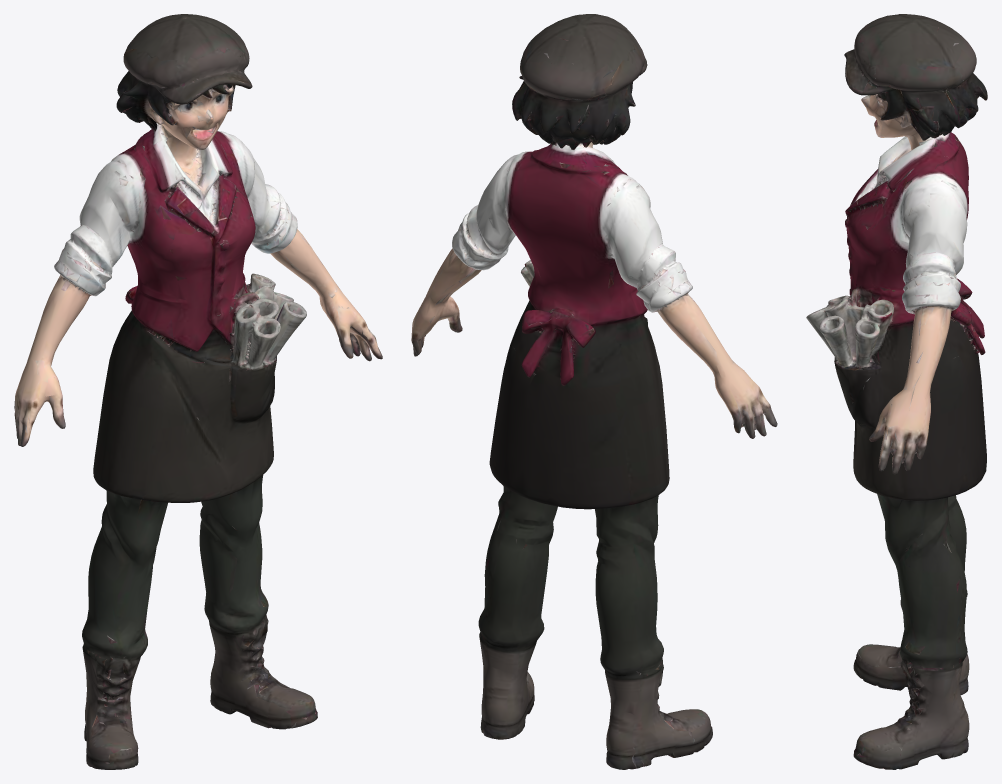
File: npc_penny.glb
3 renders of one model, left to right at view 1: azimuth 30°, elevation 25°; view 2: azimuth 150°, elevation 25°; view 3: azimuth 270°, elevation 25°, orthographic. The views are drawn at different scales.
Visible parts, largest first — view 1: Mesh_0; view 2: Mesh_0; view 3: Mesh_0.
Part boxes in pixels (x1,y1,x2,y2): Mesh_0: (14,14,382,769); Mesh_0: (411,14,777,769); Mesh_0: (806,14,987,769).
Size of the model in its own units: 1.01 by 1.91 by 0.4491.
1 material, 1 textured.
